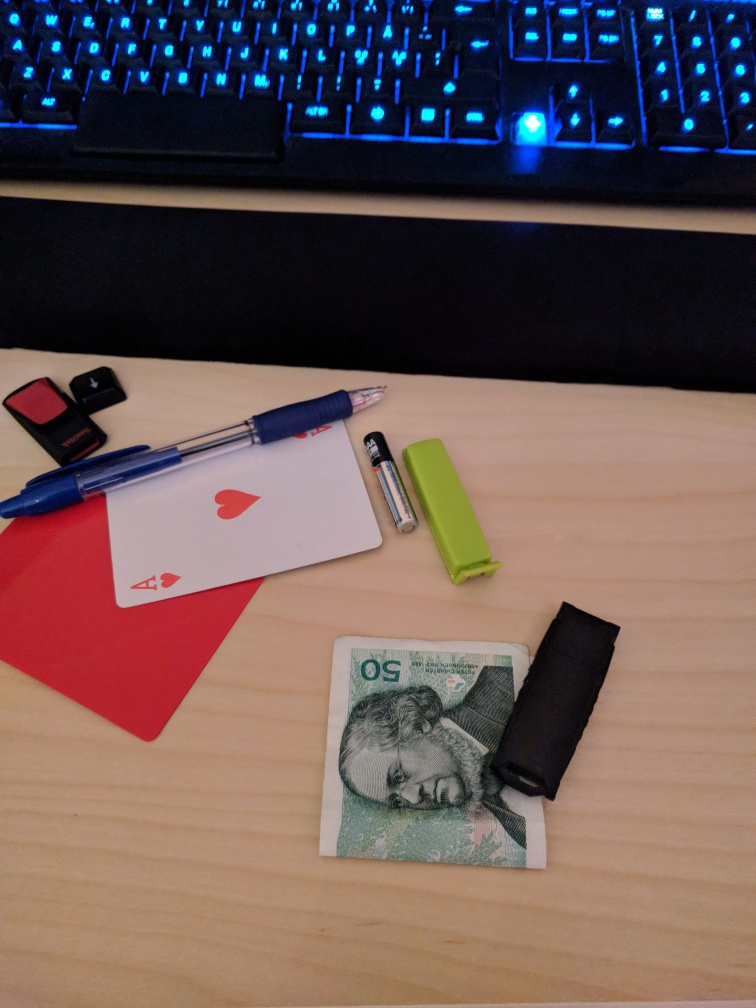ace: (105, 418, 383, 609)
